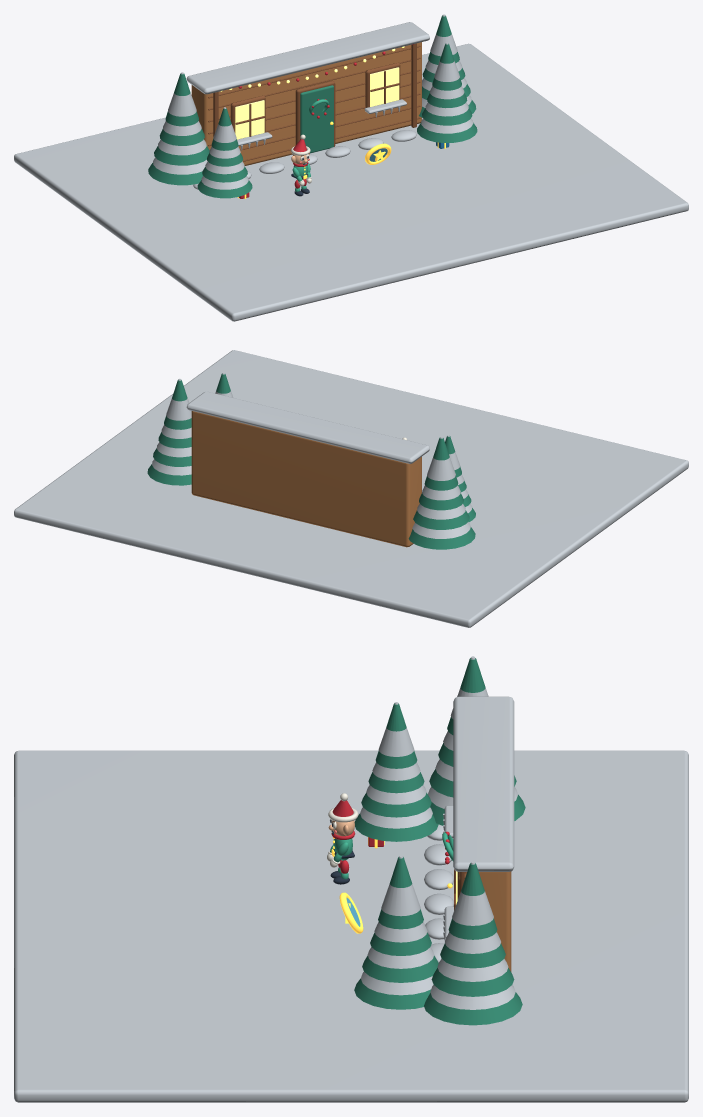
Rendered from chapter-05.glb.
3 views of the same model, one above another, from view 1: azimuth 30°, elevation 25°; view 2: azimuth 150°, elevation 25°; view 3: azimuth 270°, elevation 25° (orthographic). The views are drawn at different scales.
Parts seen in each view (by area): view 1: Schneeboden, Werkstatt, Schneegesims, Wichteltür, Warmes Fenster, Warmes Fenster.001, Tannenzweig.004, Tannenzweig.008, Tannenzweig.009, Türrahmen, Tannenzweig.011, Schnee.011 (+7 smaller); view 2: Schneeboden, Werkstatt, Schneegesims, Tannenzweig.008, Tannenzweig.009, Tannenzweig.011, Schnee.008, Schnee.011, Tannenzweig.015, Tannenzweig.012, Tannenzweig.010, Schnee.009 (+1 smaller); view 3: Schneeboden, Schneegesims, Werkstatt, Tannenzweig.012, Tannenzweig.013, Tannenzweig.015, Tannenzweig, Schnee.012, Tannenzweig.005, Tannenzweig.004, Schnee.015, Tannenzweig.007 (+15 smaller).
Boxes of the visible parts, box(x1,y1,x2,y2) form: Schneeboden: box(14, 43, 688, 321); Werkstatt: box(191, 42, 421, 165); Schneegesims: box(186, 22, 429, 94); Wichteltür: box(300, 85, 333, 153); Warmes Fenster: box(235, 100, 264, 139); Warmes Fenster.001: box(370, 67, 399, 106); Tannenzweig.004: box(417, 122, 477, 142); Tannenzweig.008: box(148, 163, 202, 185); Tannenzweig.009: box(154, 146, 209, 165); Türrahmen: box(295, 81, 335, 146); Tannenzweig.011: box(165, 73, 198, 126); Schnee.011: box(168, 72, 196, 116); Schneeboden: box(14, 350, 688, 627); Werkstatt: box(191, 411, 421, 547); Schneegesims: box(186, 391, 429, 463); Tannenzweig.008: box(408, 527, 475, 549); Tannenzweig.009: box(413, 510, 469, 529); Tannenzweig.011: box(424, 437, 458, 490); Schnee.008: box(412, 522, 470, 538); Schnee.011: box(427, 436, 455, 480); Tannenzweig.015: box(164, 380, 191, 429); Tannenzweig.012: box(147, 464, 191, 485); Tannenzweig.010: box(419, 493, 463, 510); Schnee.009: box(417, 504, 465, 519); Schneeboden: box(14, 750, 688, 1102); Schneegesims: box(453, 696, 514, 871); Werkstatt: box(466, 871, 511, 971); Tannenzweig.012: box(424, 992, 522, 1025); Tannenzweig.013: box(431, 968, 514, 996); Tannenzweig.015: box(448, 863, 497, 939); Tannenzweig: box(354, 813, 438, 841); Schnee.012: box(430, 985, 515, 1009); Tannenzweig.005: box(362, 955, 438, 982); Tannenzweig.004: box(354, 978, 430, 1009); Schnee.015: box(452, 861, 493, 925); Tannenzweig.007: box(378, 857, 423, 929).
Size of the model in its own units: 18 by 4.39 by 15.
